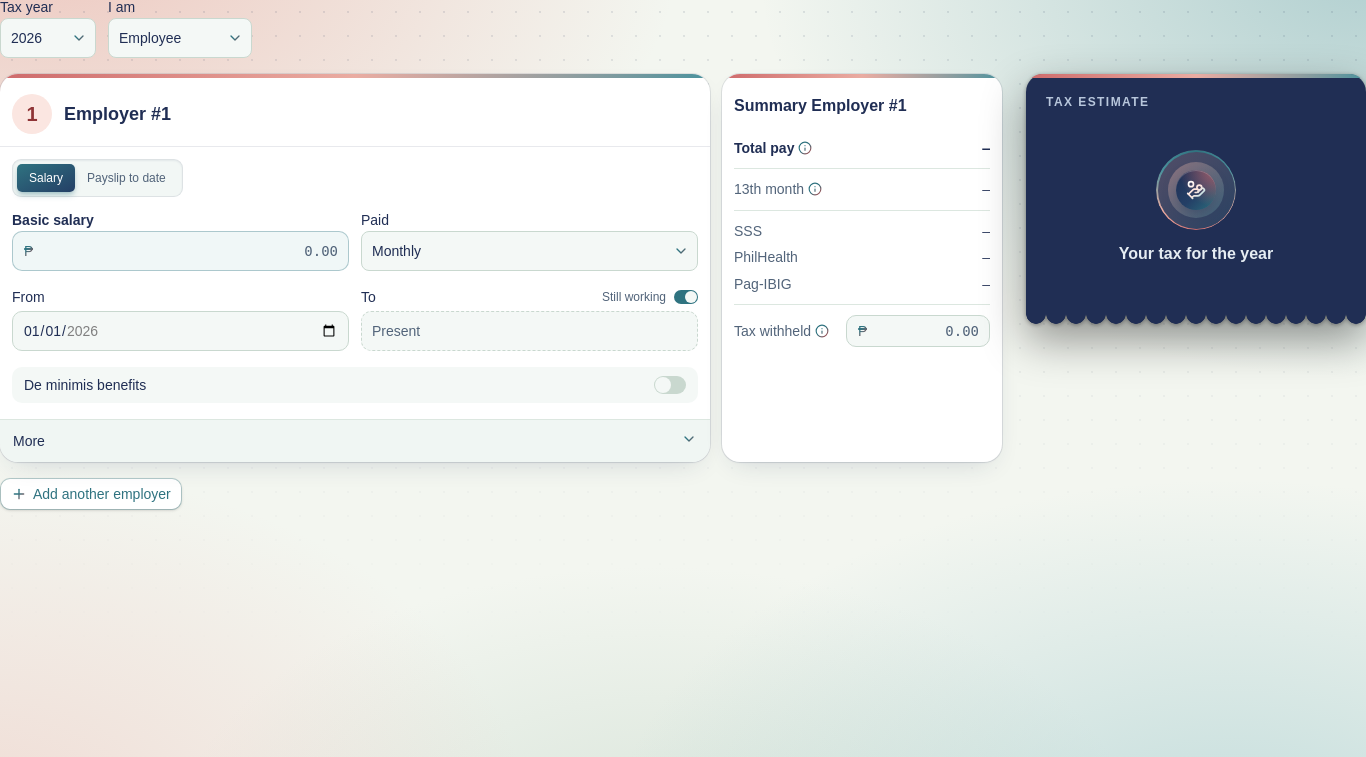
Test: MyYear: employers › can remove an employer only when there is more than one
Click the button "Add another employer": (91, 494) [0, 478, 182, 510]
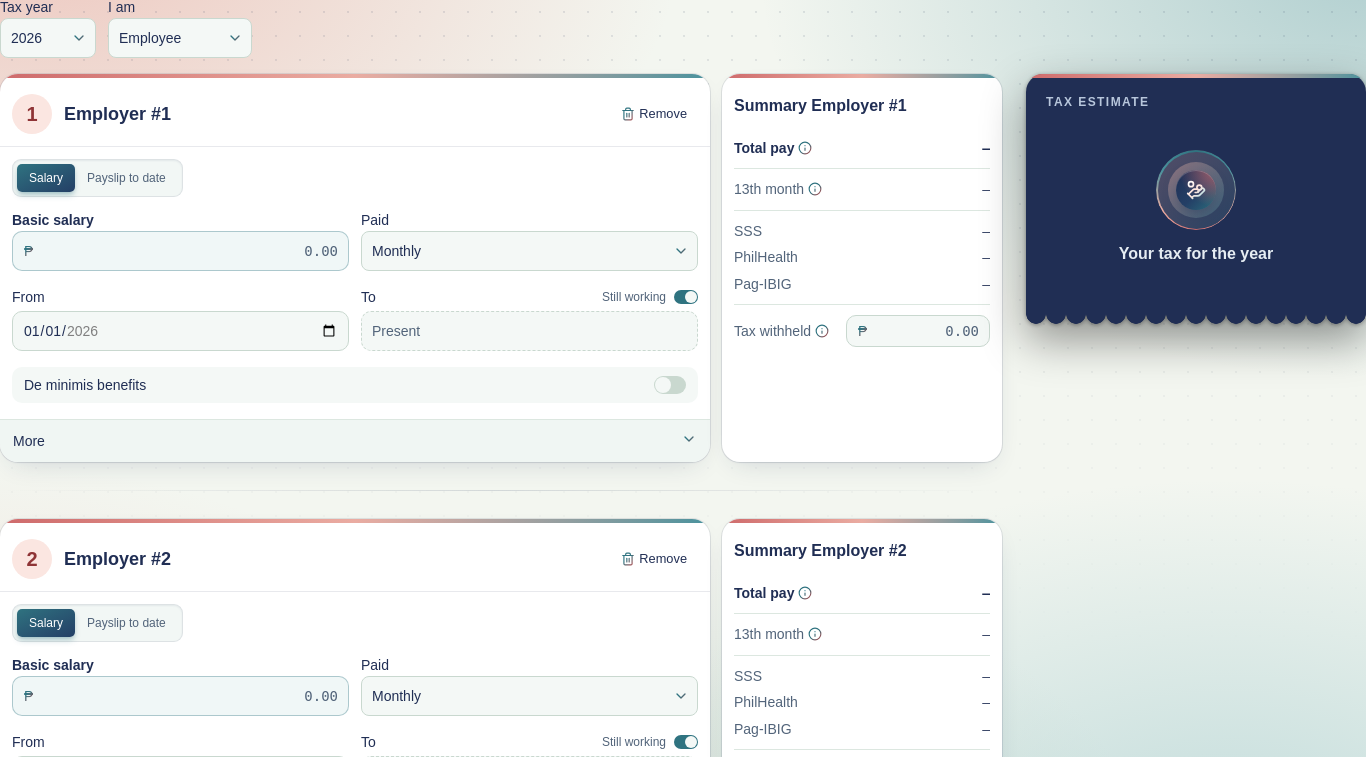
Check: the number of buttons named "Remove employer" is 2, box [610, 100, 698, 128]; [610, 545, 698, 573]
